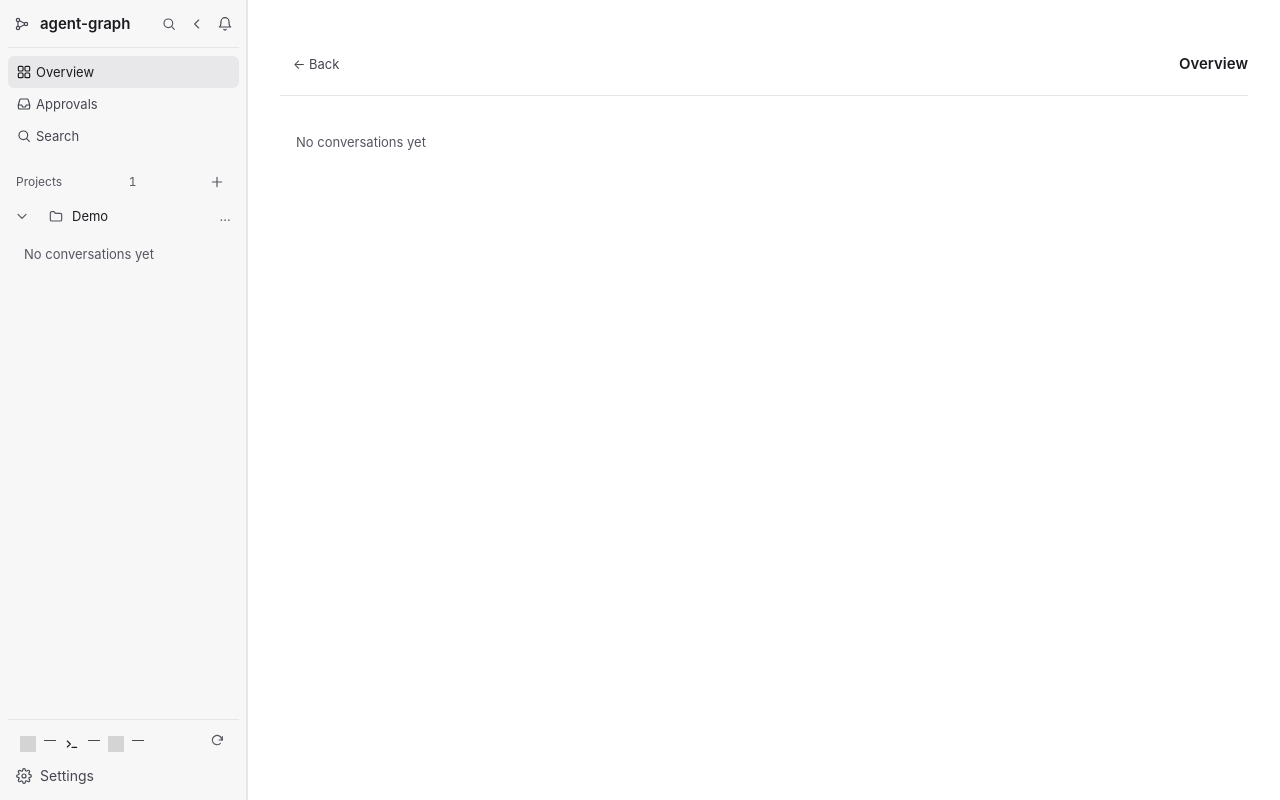
Scenario: offers the SSH dialog only with a connection: false
This screenshot has width=1280, height=800.
Click the button named "Search and commands": (169, 24) [155,10,183,38]
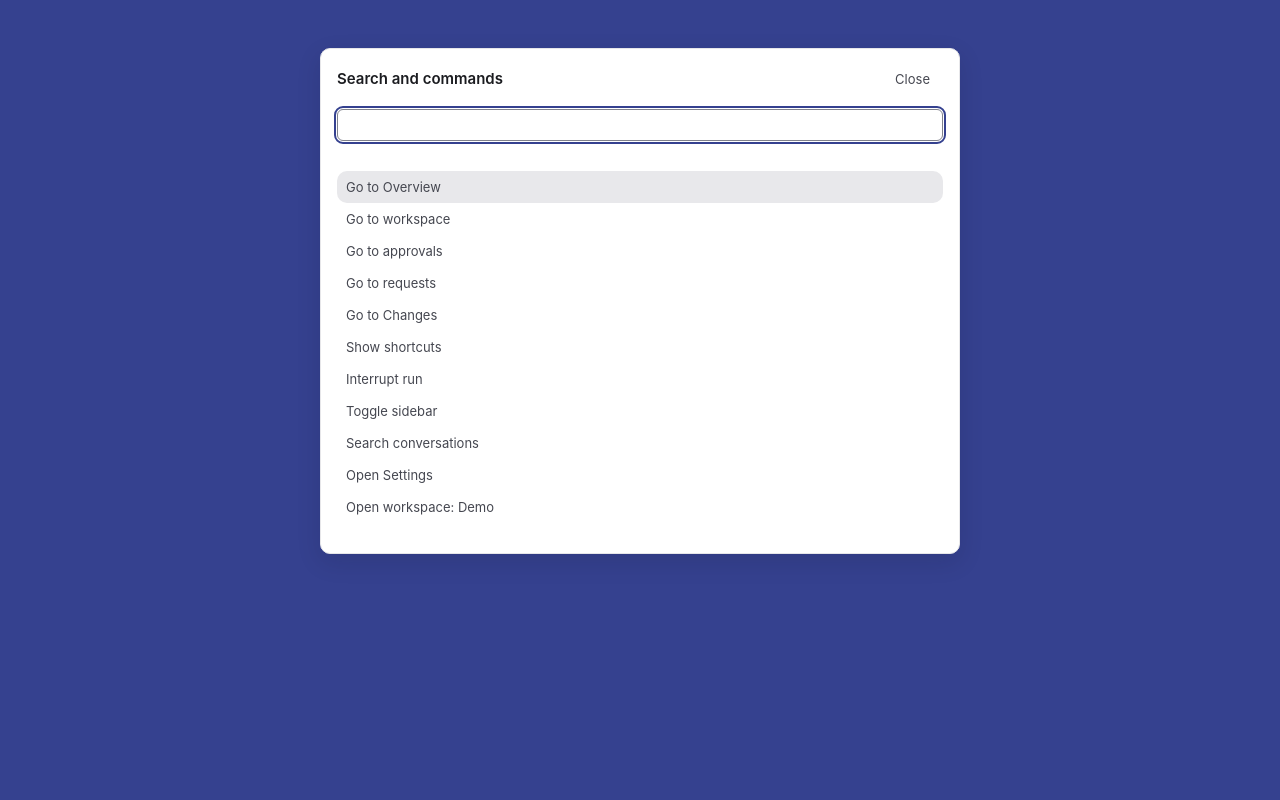
In the dropdown named "Search commands": (640, 125) [337,109,943,141], type "SSH"
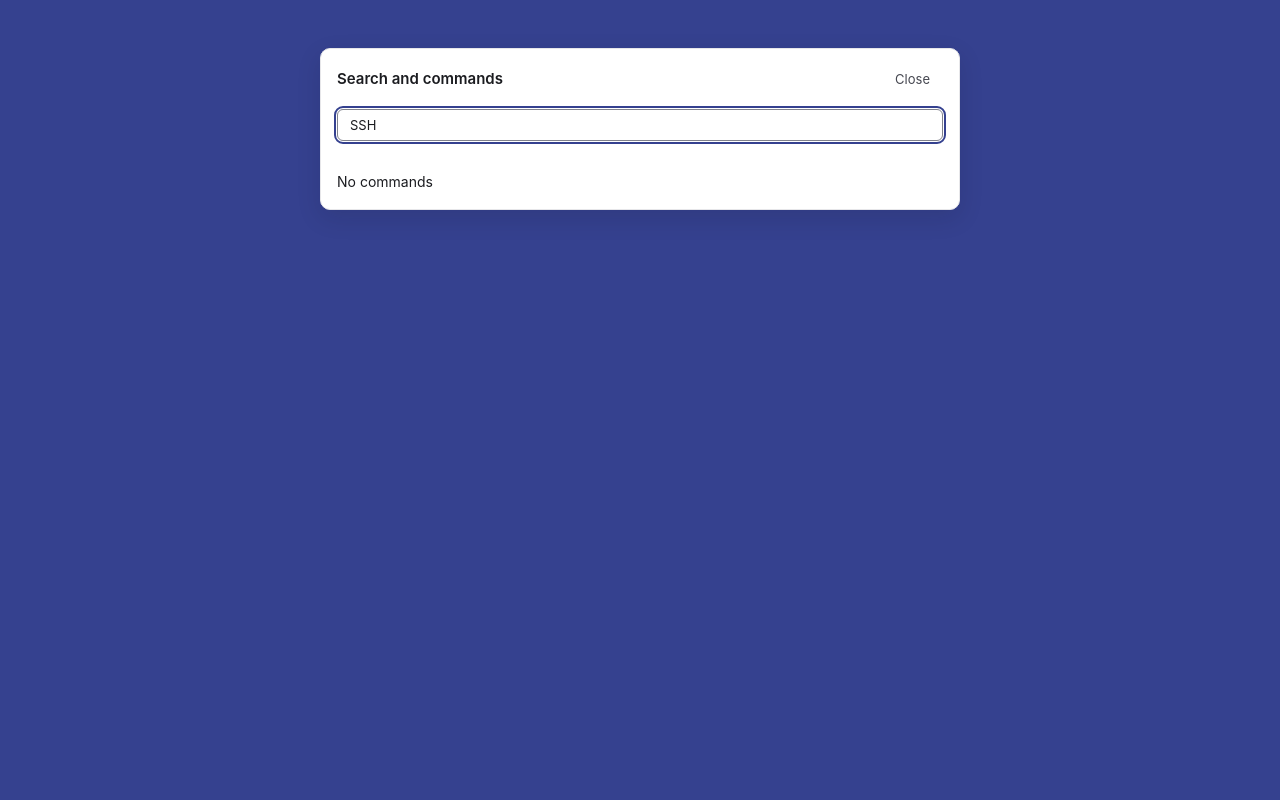
expect the text "No commands" is shown: met, box [337,173,433,190]
